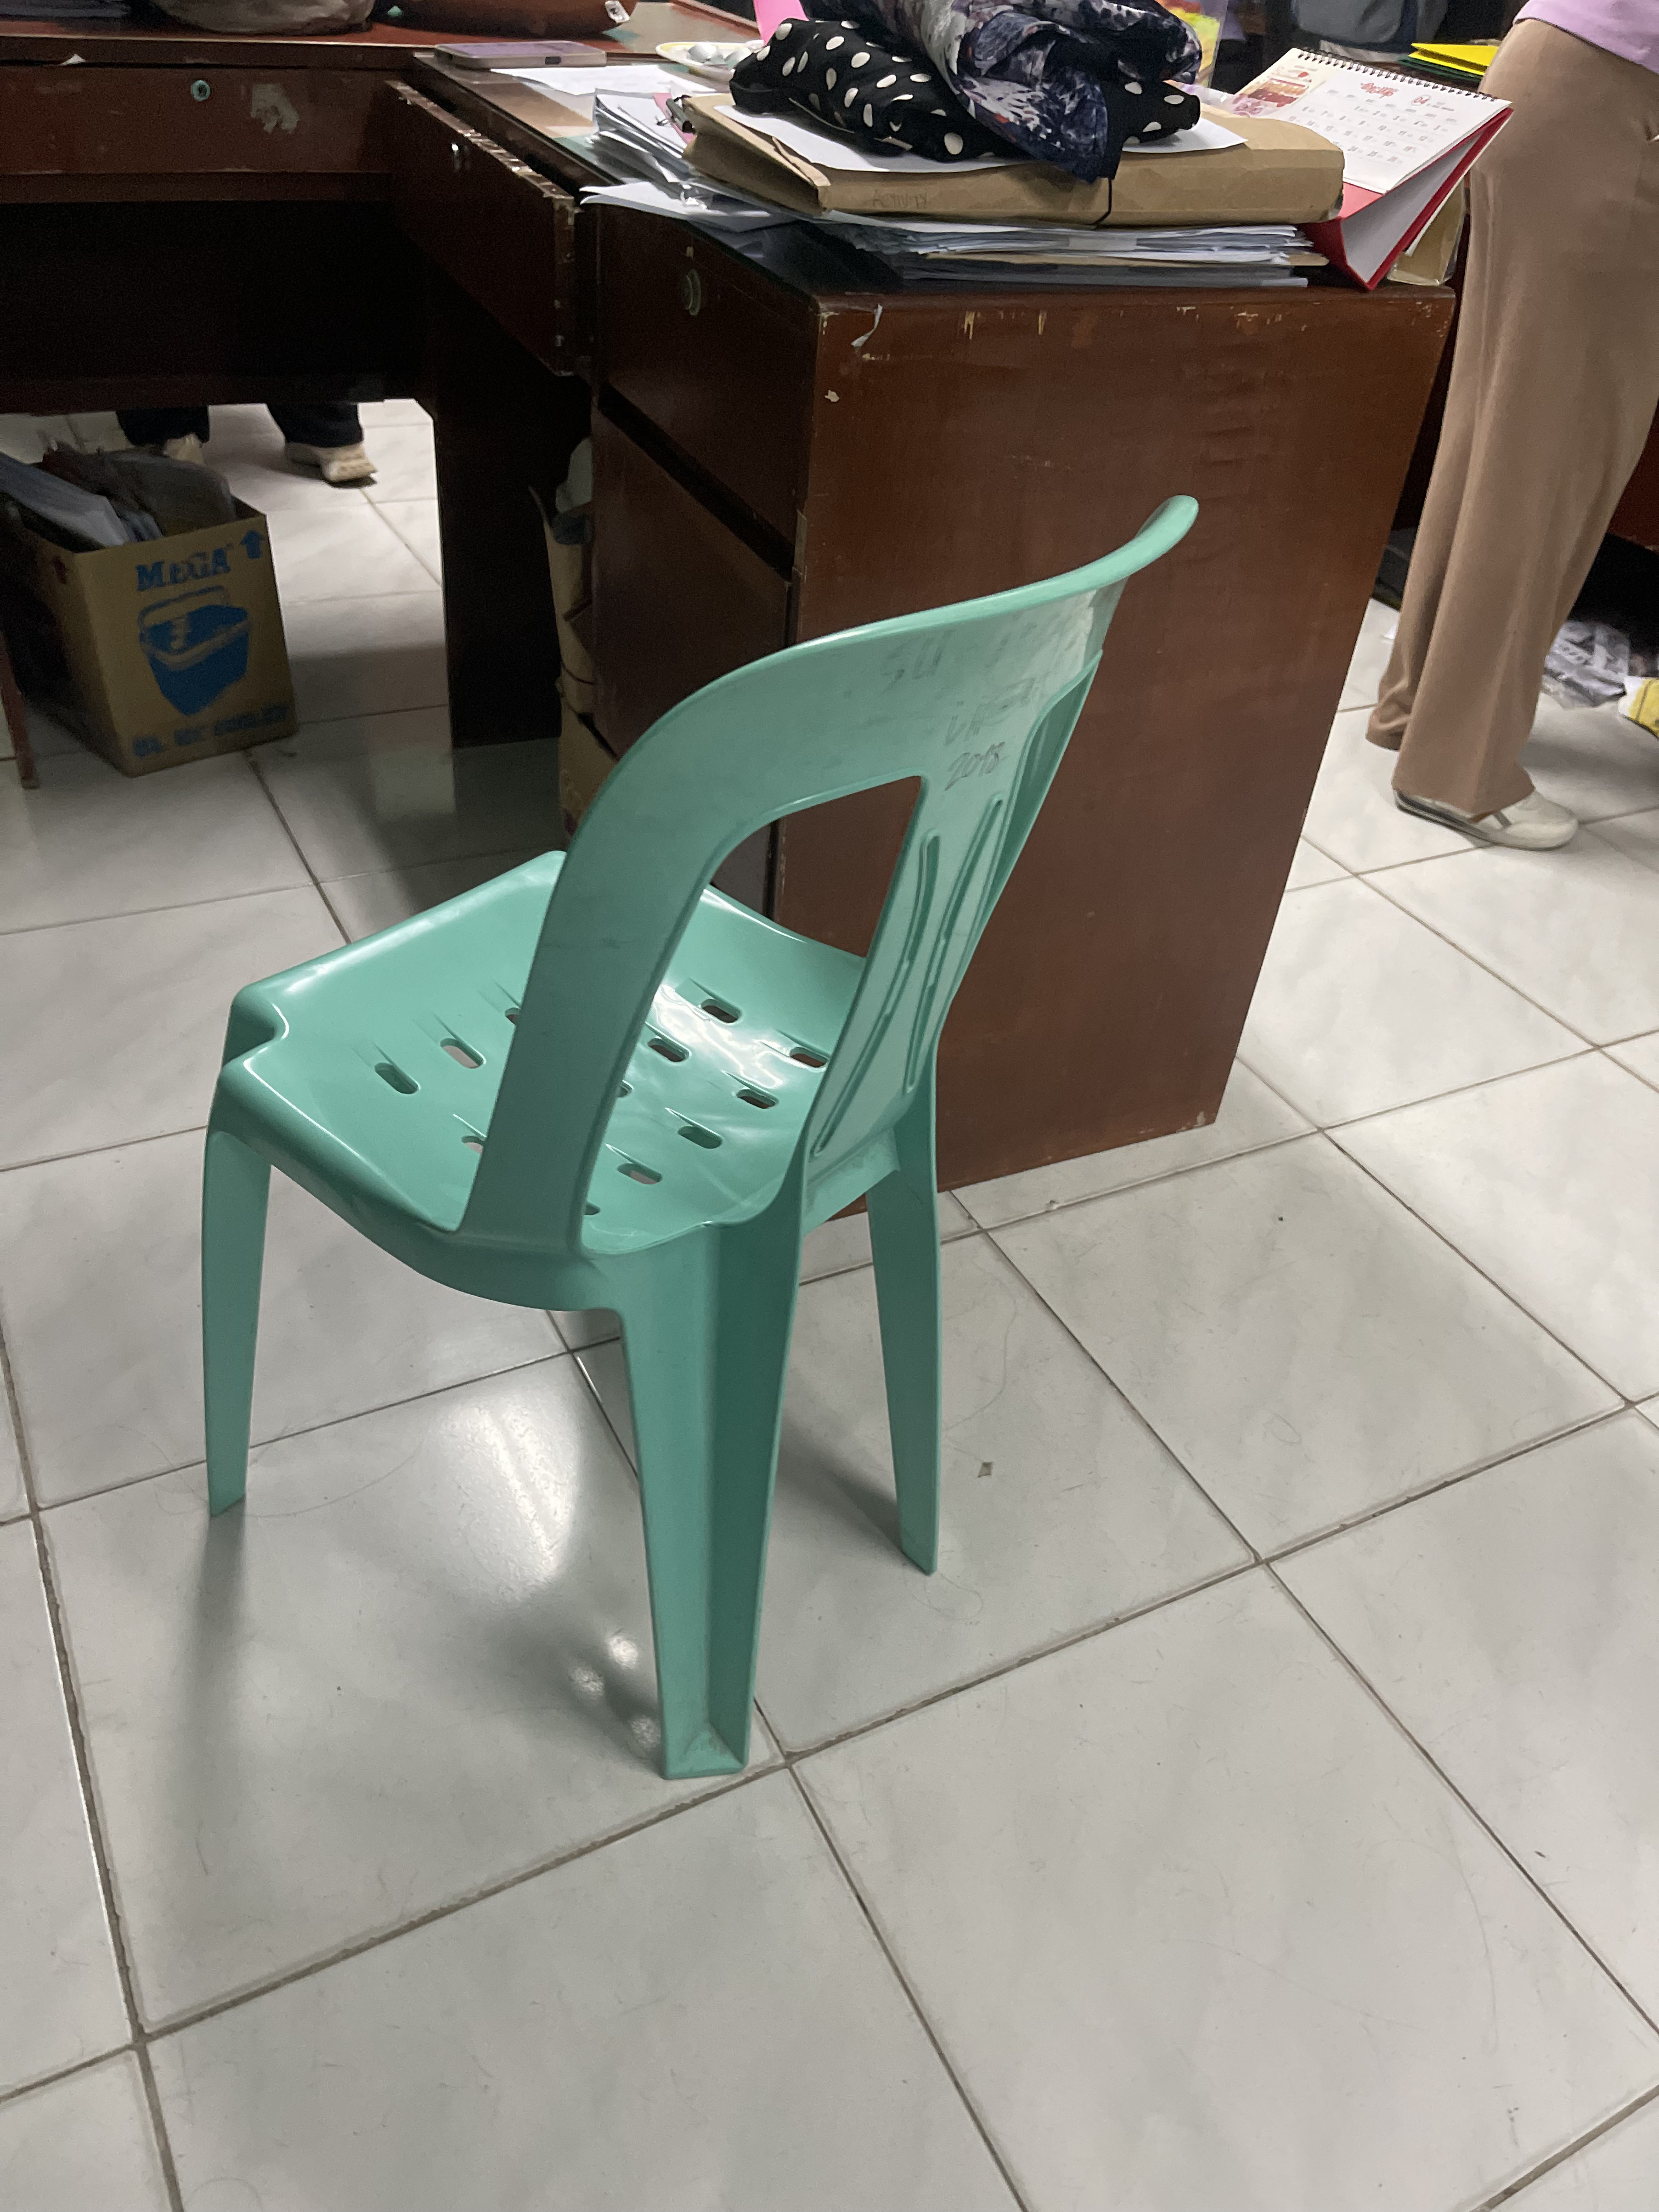chair2: (173, 463, 1218, 1810)
